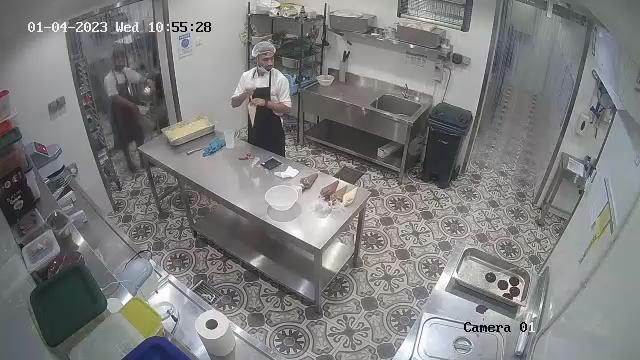apron: (246, 70, 286, 154), (111, 69, 147, 145)
